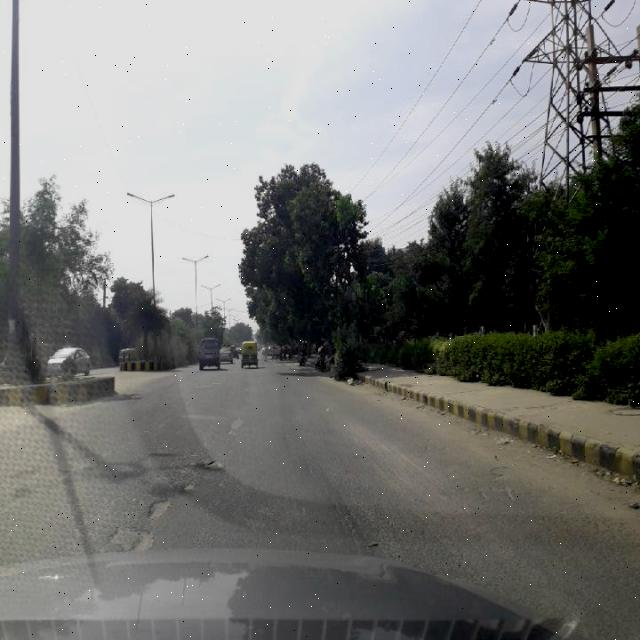D40: (106, 521, 154, 547), (175, 477, 202, 499), (203, 453, 229, 475), (145, 499, 171, 520)
